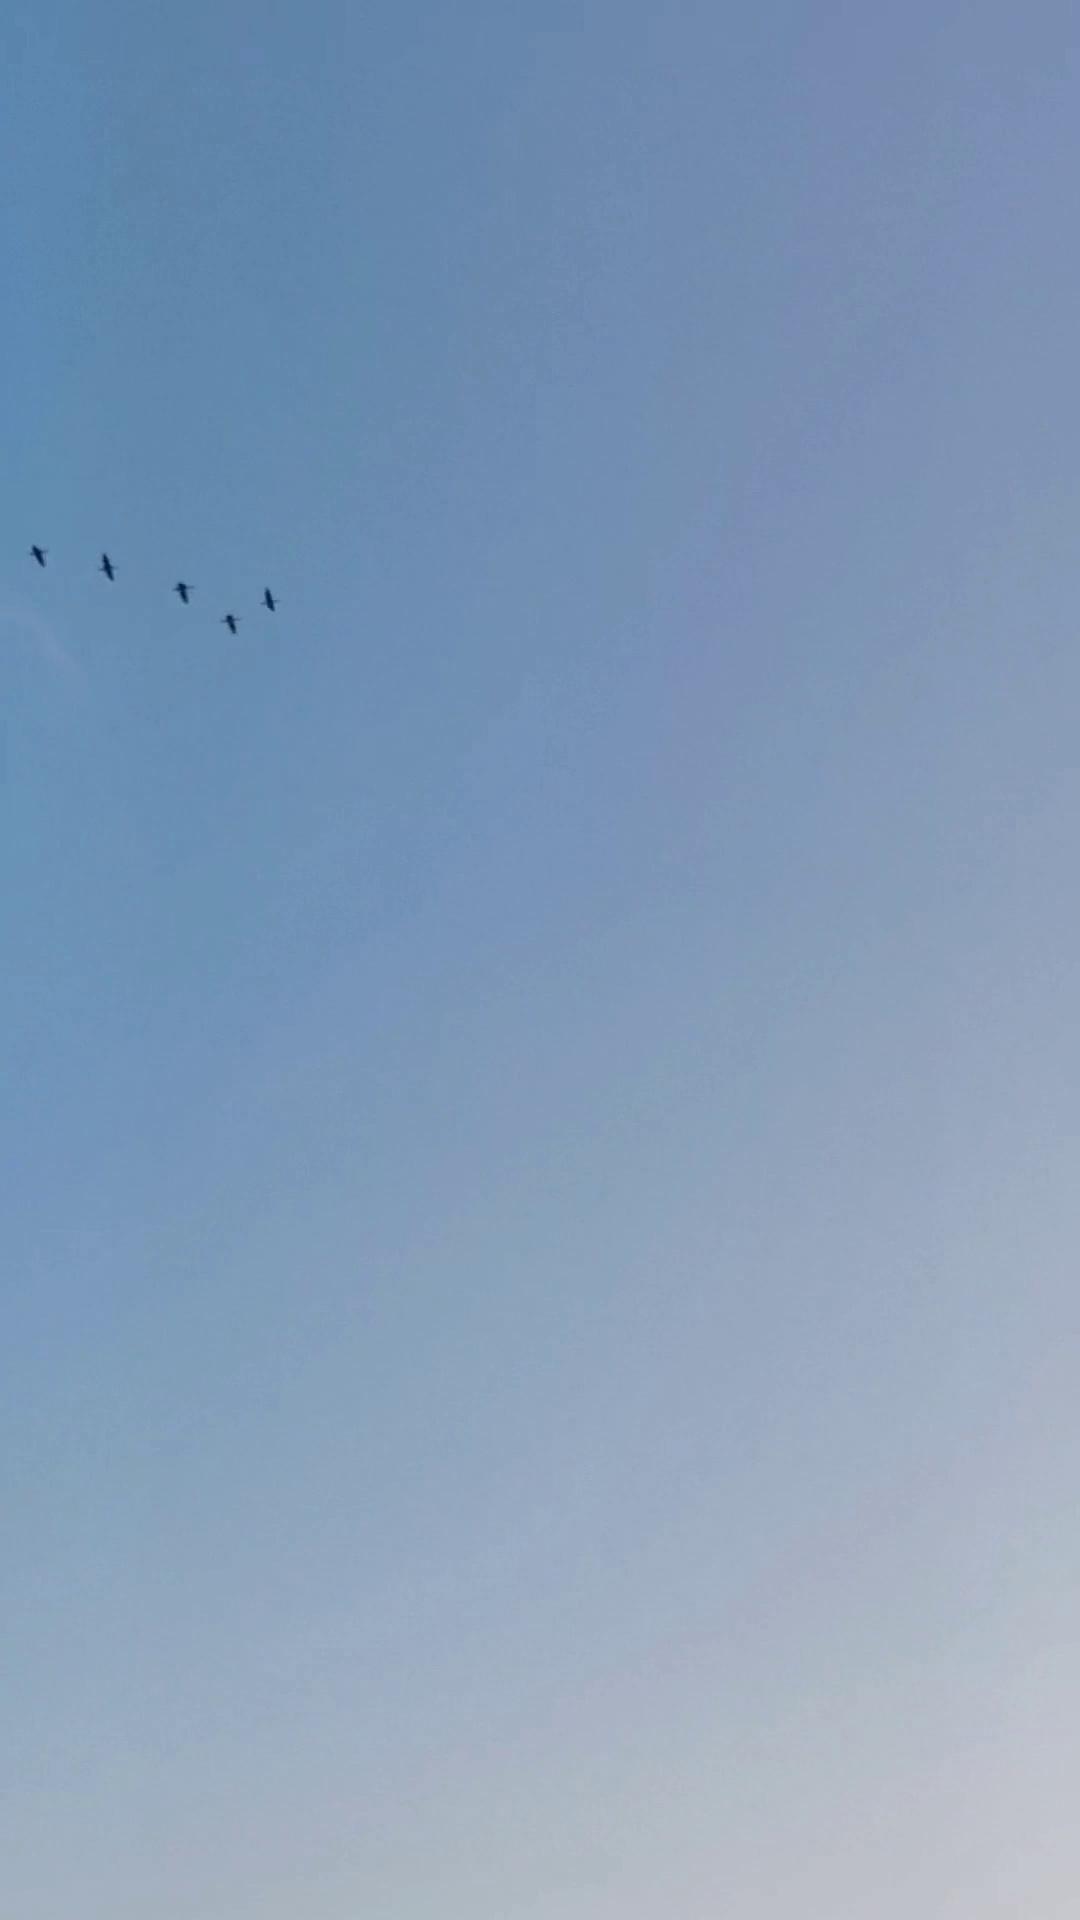bird: (220, 607, 243, 636), (98, 553, 119, 580), (171, 579, 195, 603), (26, 542, 47, 566), (260, 587, 280, 612)
